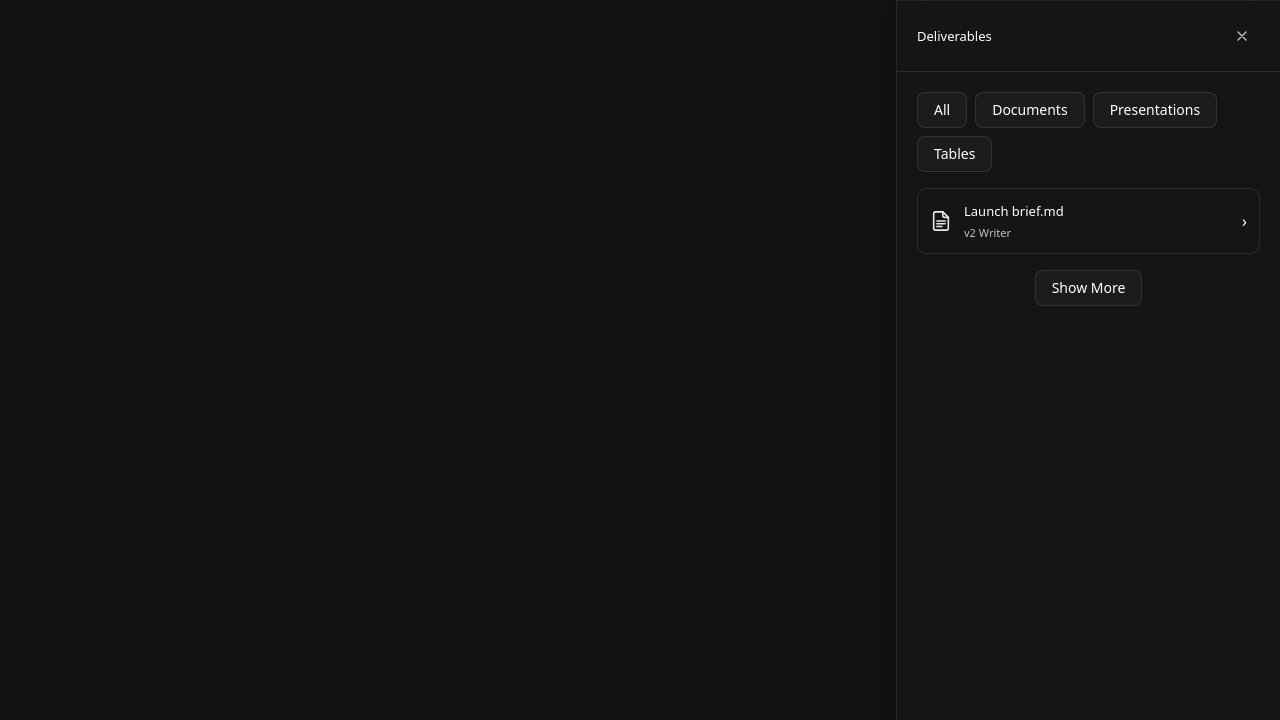
Test: conversation deliverables page through the server cursor without duplicating files
Click the button "Show More". click: click(1088, 288)
box: [1035,270,1142,306]
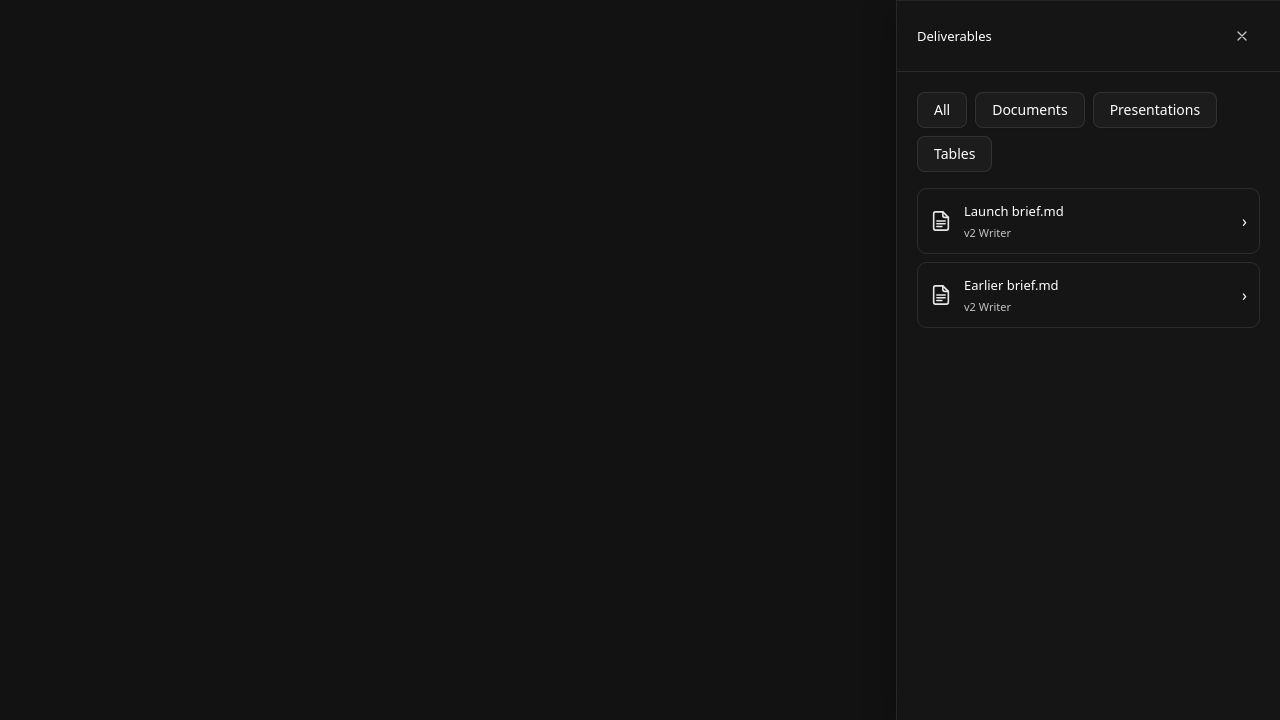
Result: the text "Earlier brief.md" is shown at [964,276,1059,294]
Result: the button "Show More" is gone
